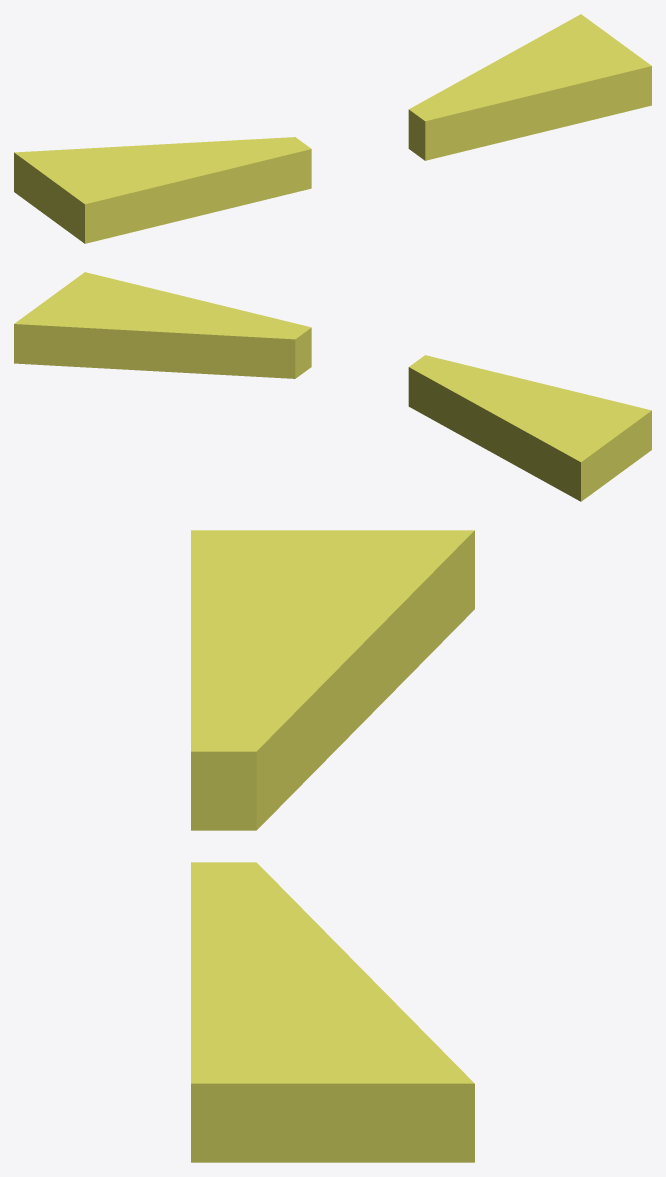
Rendered from Pinball_Object_B.fbx.
3 views of the same model, one above another, from view 1: azimuth 30°, elevation 25°; view 2: azimuth 150°, elevation 25°; view 3: azimuth 270°, elevation 25° (orthographic). The views are drawn at different scales.
Visible parts, largest first — view 1: Pinball_Object_B; view 2: Pinball_Object_B; view 3: Pinball_Object_B.
Part boxes in pixels (x1,y1,x2,y2): Pinball_Object_B: (14, 14, 651, 243); Pinball_Object_B: (14, 272, 651, 501); Pinball_Object_B: (191, 530, 474, 1162).
Size of the model in its own units: 600 by 40 by 130.
